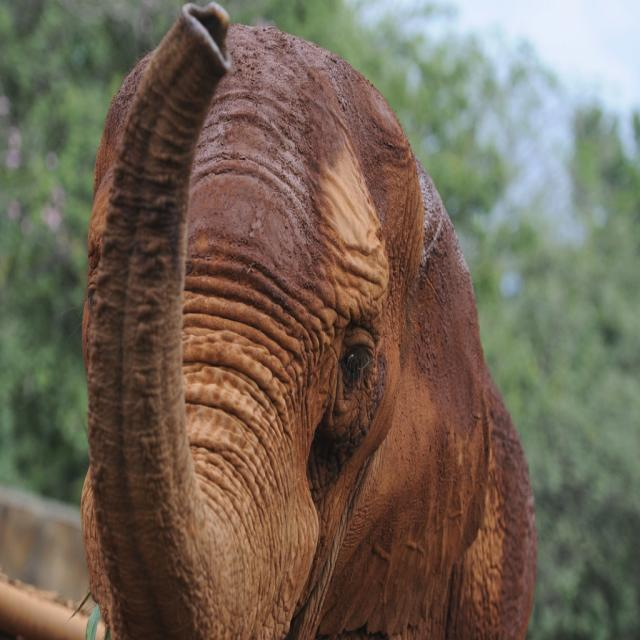Elephant: (78, 1, 536, 640)
